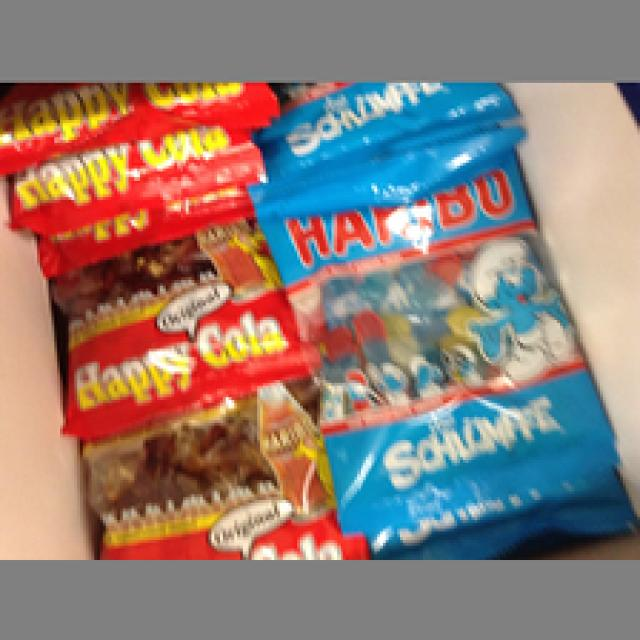groceries: (248, 155, 606, 534)
